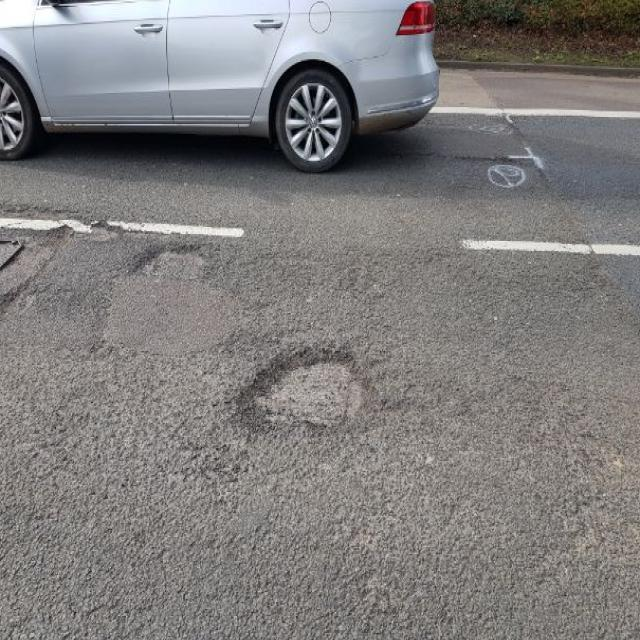pothole: (232, 336, 392, 442), (1, 202, 125, 235), (135, 235, 219, 278)
